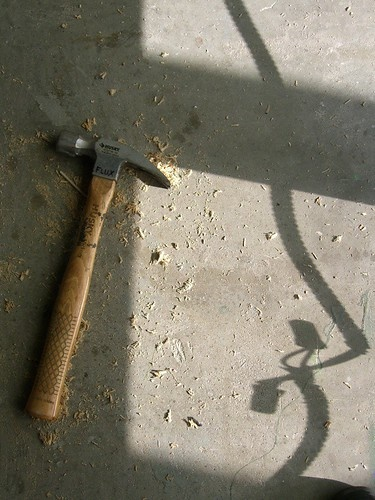hammer: (26, 128, 171, 417)
